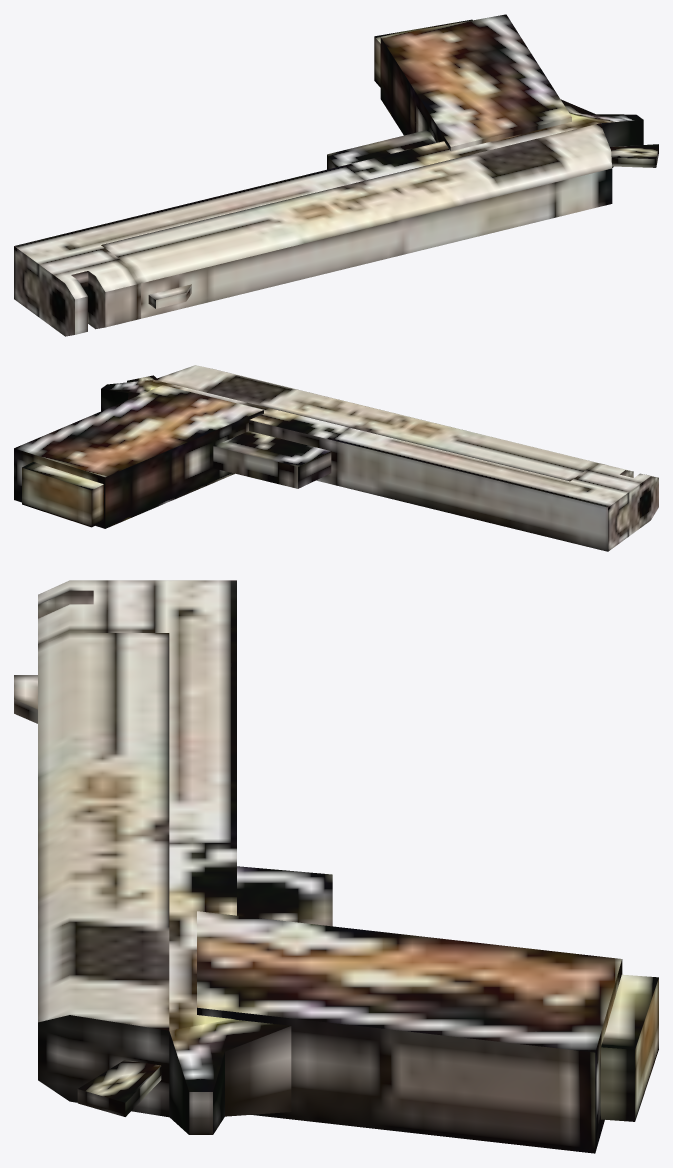
The model's file is weapon-ebony-ivory.glb.
3 renders of one model, top to bottom at view 1: azimuth 30°, elevation 25°; view 2: azimuth 150°, elevation 25°; view 3: azimuth 270°, elevation 25°, orthographic. The views are drawn at different scales.
Visible parts, largest first — view 1: weapon; view 2: weapon; view 3: weapon.
Boxes of the visible parts, left/top/right/bottom form: weapon: left=14, top=14, right=658, bottom=336; weapon: left=14, top=365, right=658, bottom=551; weapon: left=14, top=580, right=658, bottom=1153.
Bounding box in the file's own units: 0.3457 × 0.0333 × 0.1924.
Materials: 1 (1 with a texture image).
